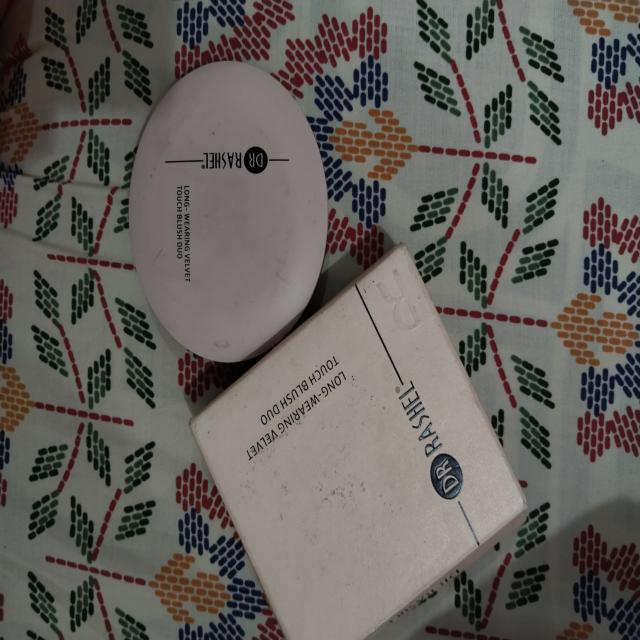powder: (121, 48, 339, 374)
